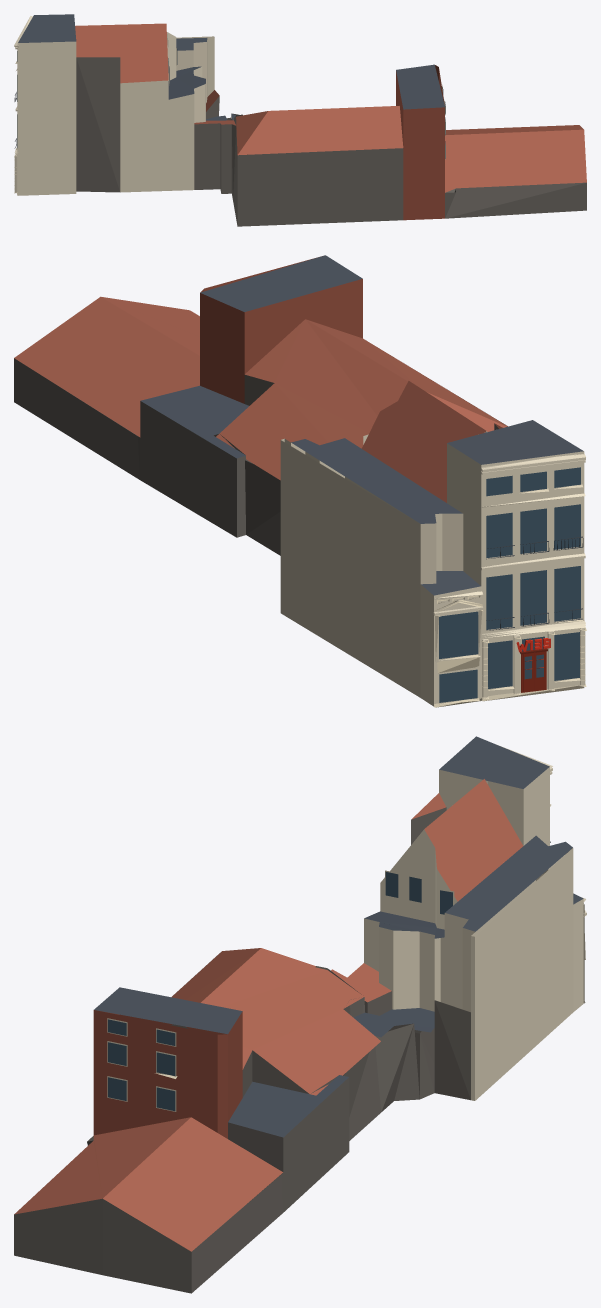
3 views of the same model, one above another, from view 1: azimuth 30°, elevation 25°; view 2: azimuth 150°, elevation 25°; view 3: azimuth 270°, elevation 25° (orthographic). The views are drawn at different scales.
Parts seen in each view (by area): view 1: w139; view 2: w139; view 3: w139.
Part boxes in pixels (x1,y1,x2,y2): w139: (14, 14, 586, 226); w139: (14, 255, 586, 707); w139: (14, 736, 586, 1293).
Bounding box in the file's own units: 64.55 × 20.23 × 46.65.
